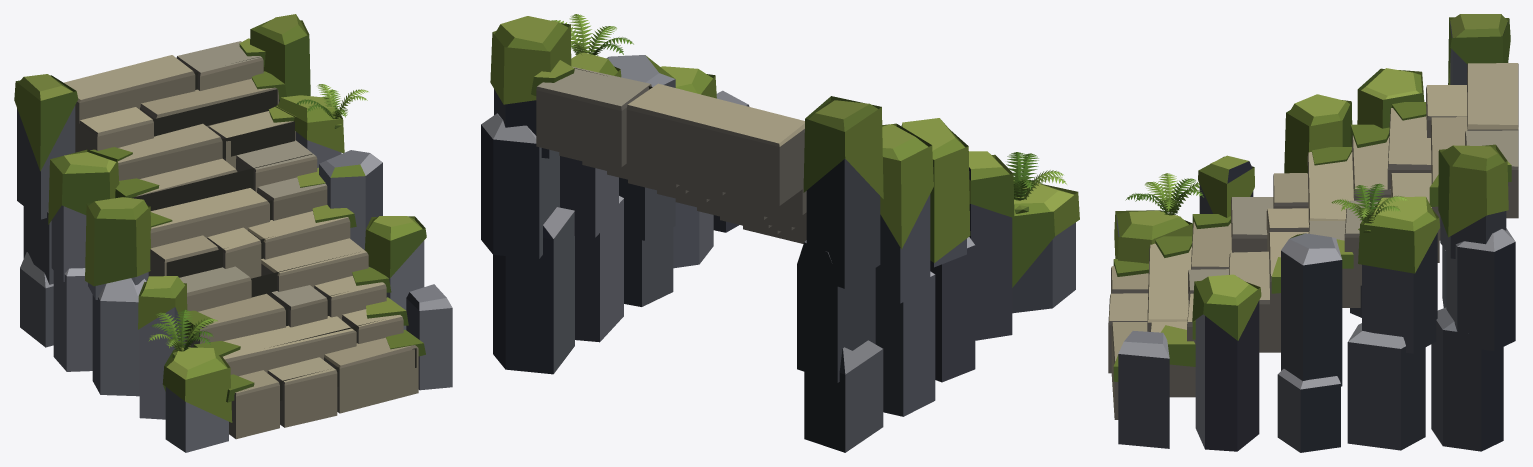
File: wf_stone_steps.glb
The picture shows the model from 3 angles, left to right: view 1: azimuth 30°, elevation 25°; view 2: azimuth 150°, elevation 25°; view 3: azimuth 270°, elevation 25°; orthographic projection. The views are drawn at different scales.
Parts seen in each view (by area): view 1: wf_stone_steps; view 2: wf_stone_steps; view 3: wf_stone_steps.
Part boxes in pixels (x1,y1,x2,y2): wf_stone_steps: (14,14,452,452); wf_stone_steps: (481,14,1079,452); wf_stone_steps: (1108,14,1518,452).
Bounding box in the file's own units: 4.1 × 3.22 × 4.15.
